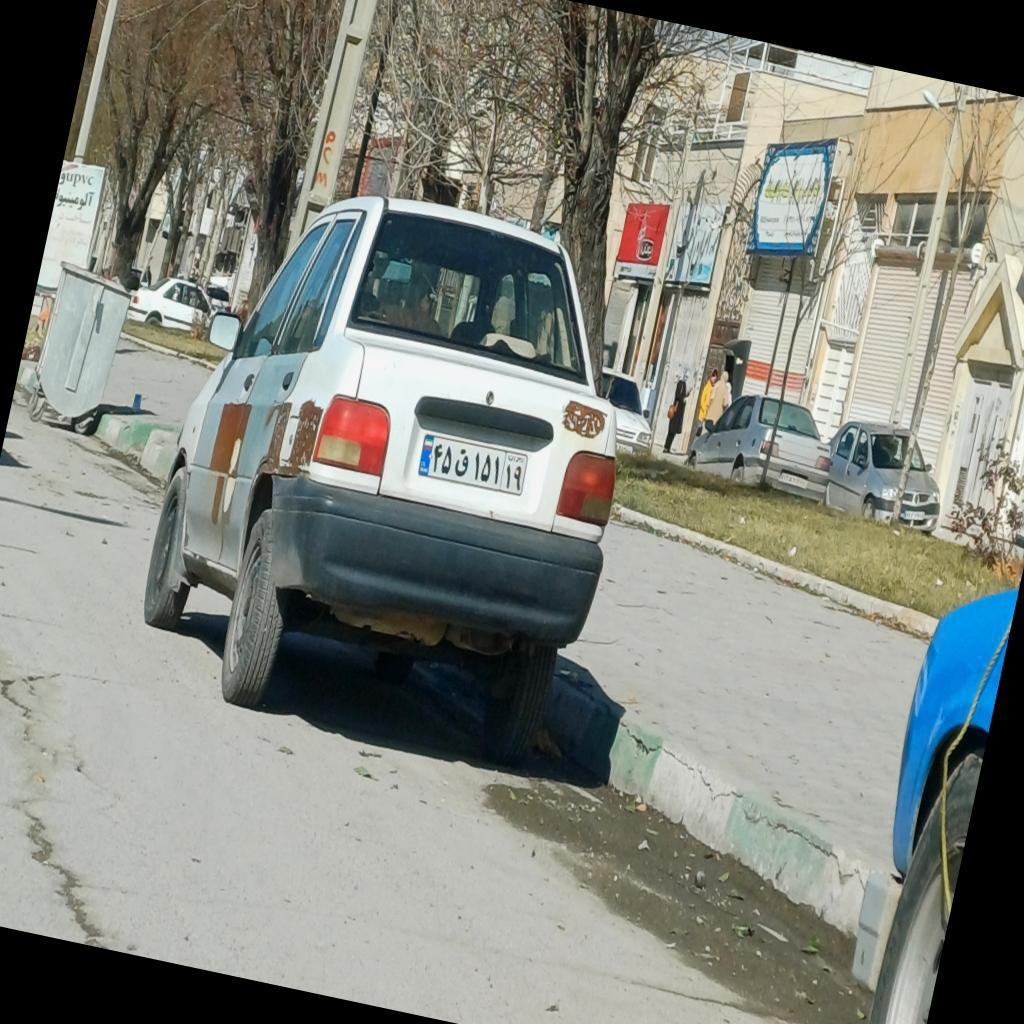Plates: (416, 434, 530, 498)
